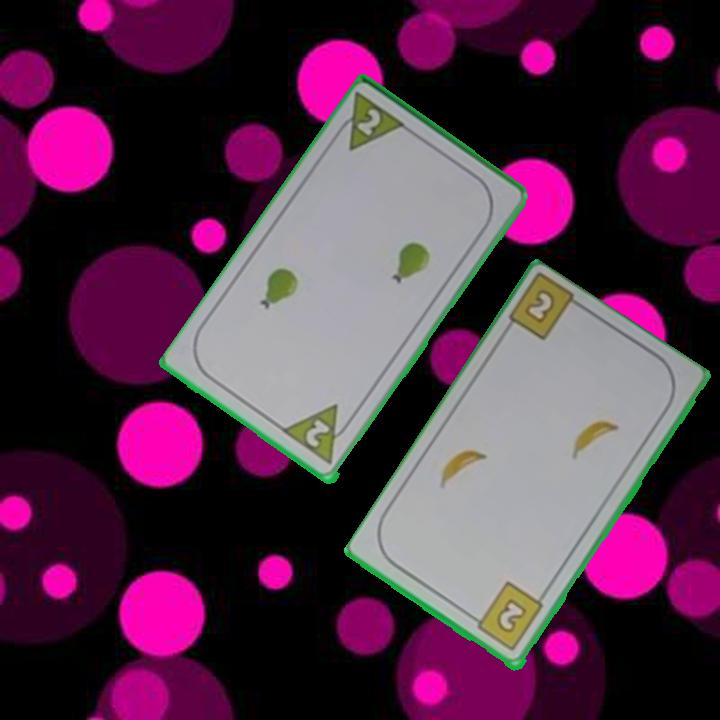2b: (467, 579, 546, 655), (520, 286, 559, 328)
2p: (301, 416, 333, 451), (353, 105, 384, 140)
